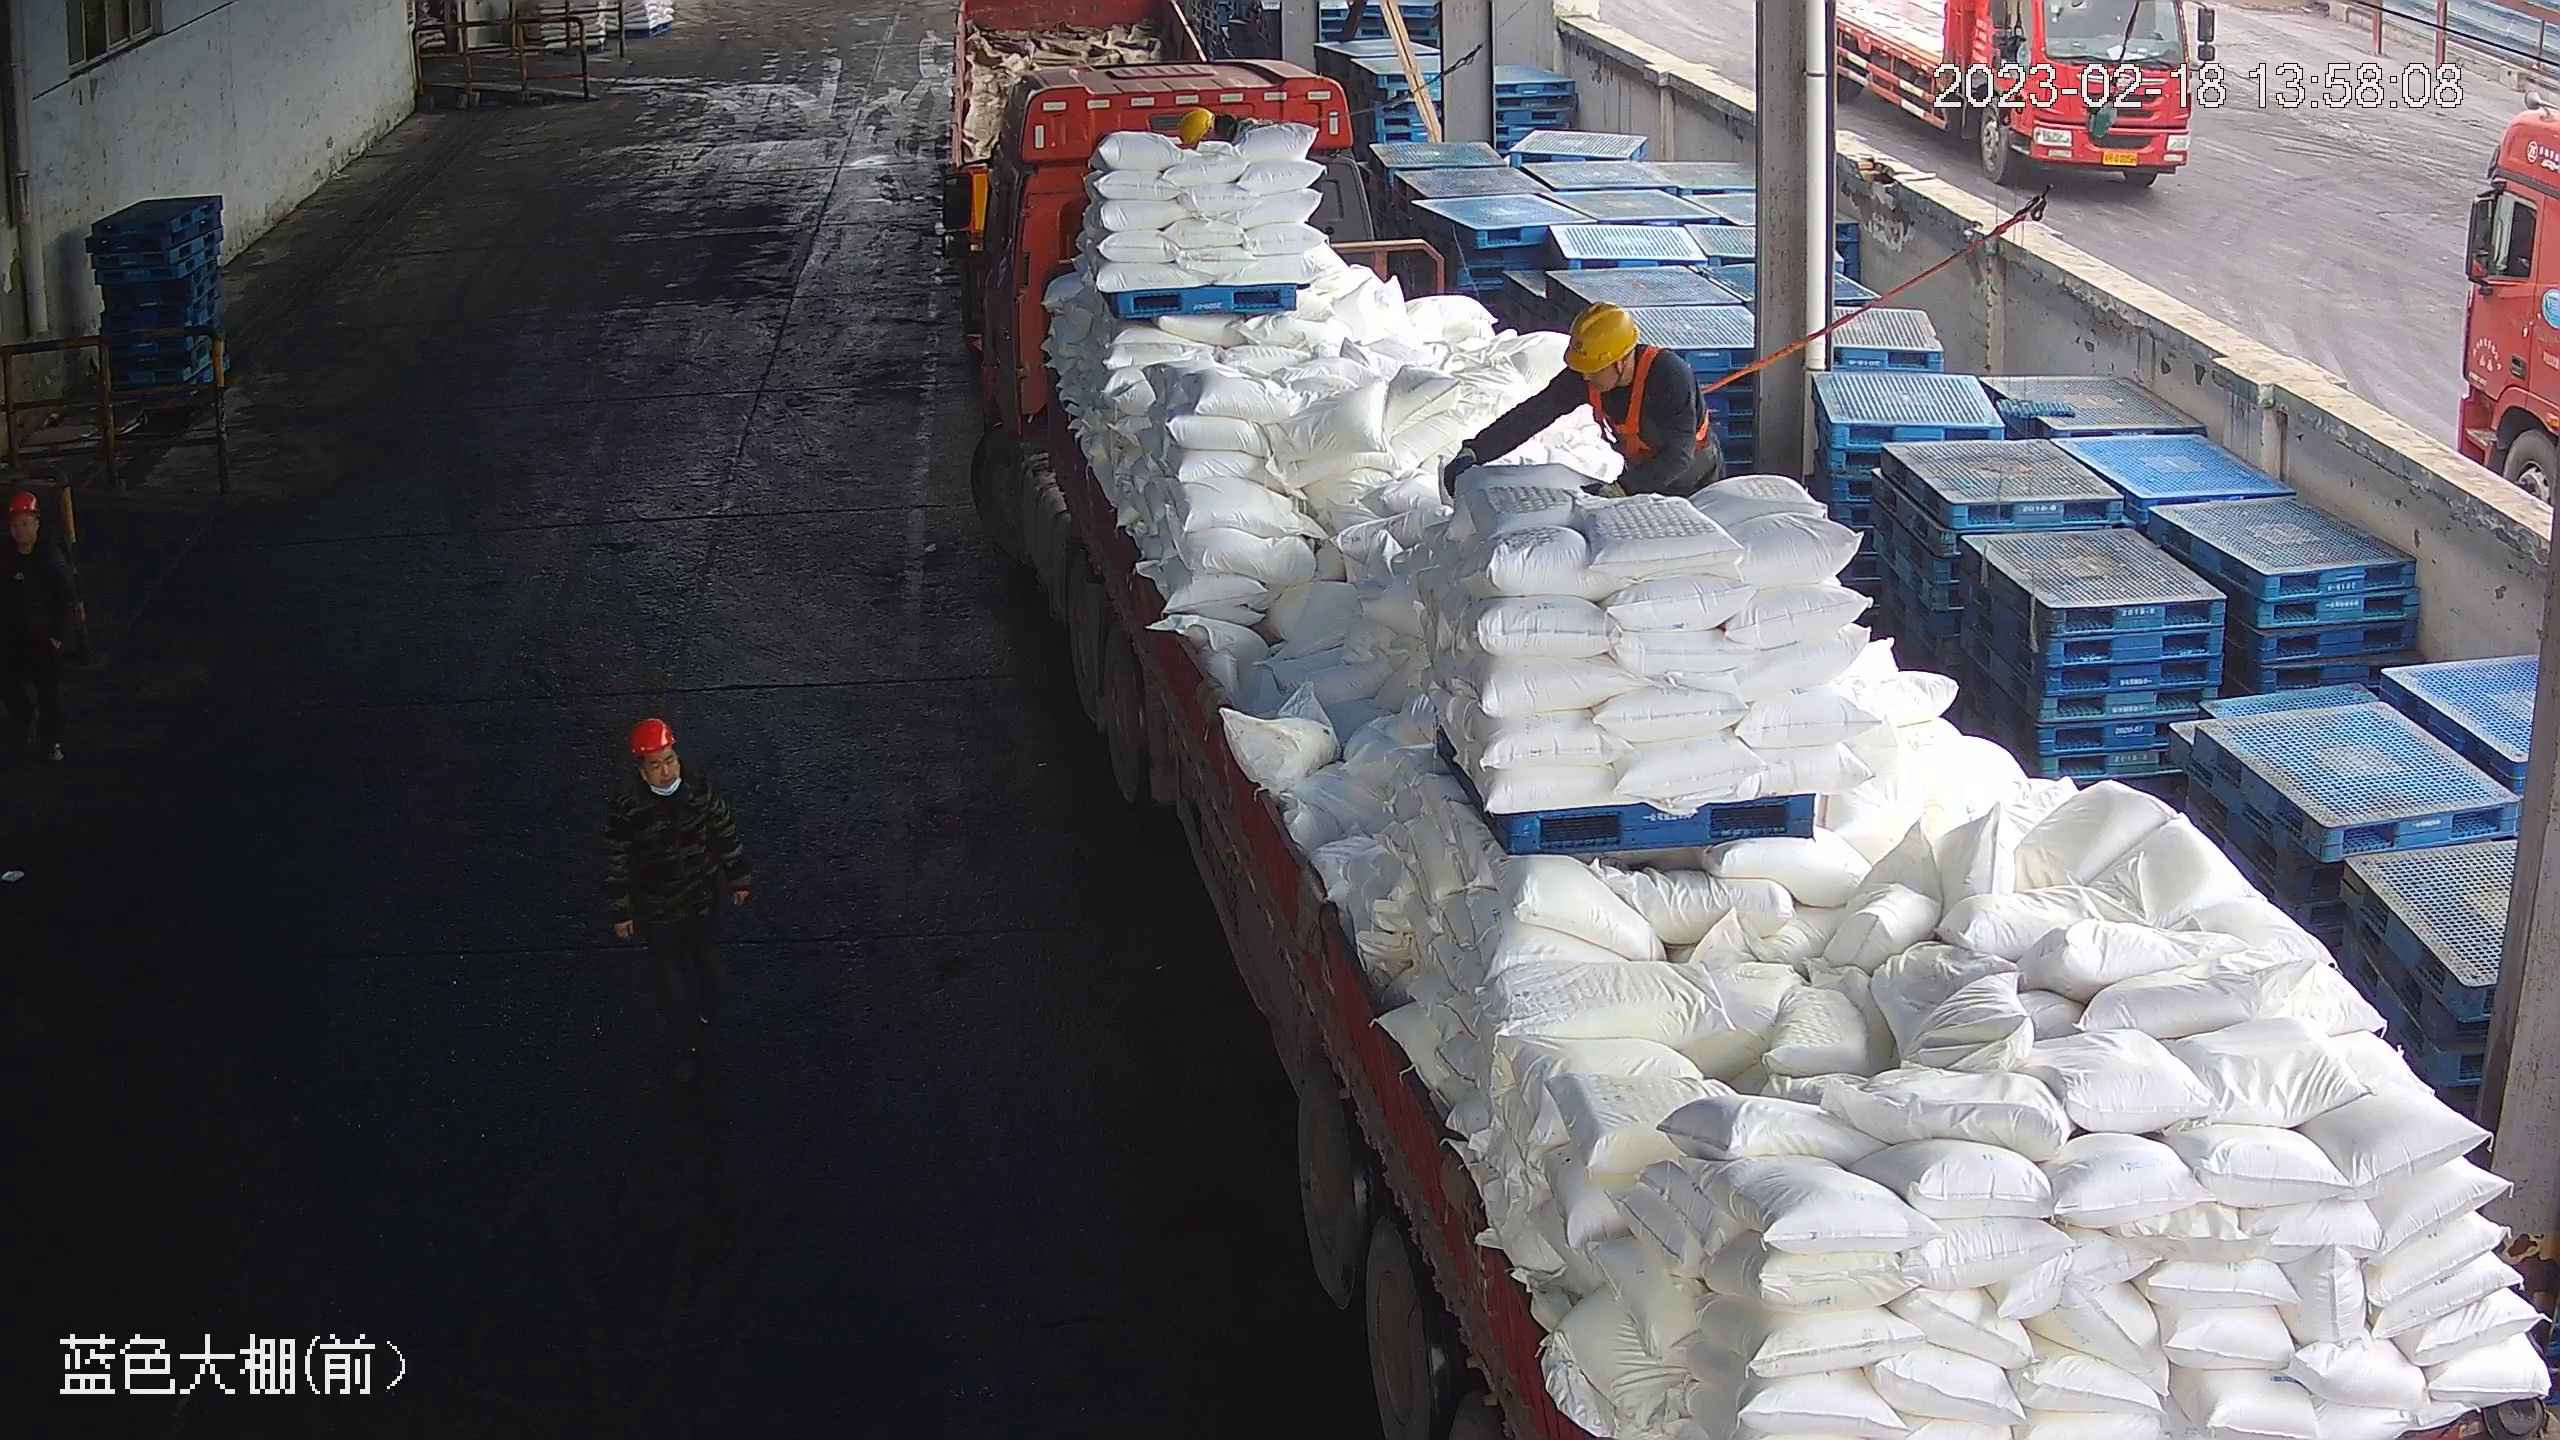belt: (1597, 361, 1706, 464)
head: (598, 715, 738, 858), (1560, 303, 1694, 415), (1, 491, 67, 589)
helmet: (1562, 302, 1638, 371), (622, 713, 678, 753), (1177, 105, 1214, 144), (3, 490, 36, 516)
people: (599, 709, 747, 1065), (1, 482, 68, 868)
truck: (943, 65, 2556, 1440)
